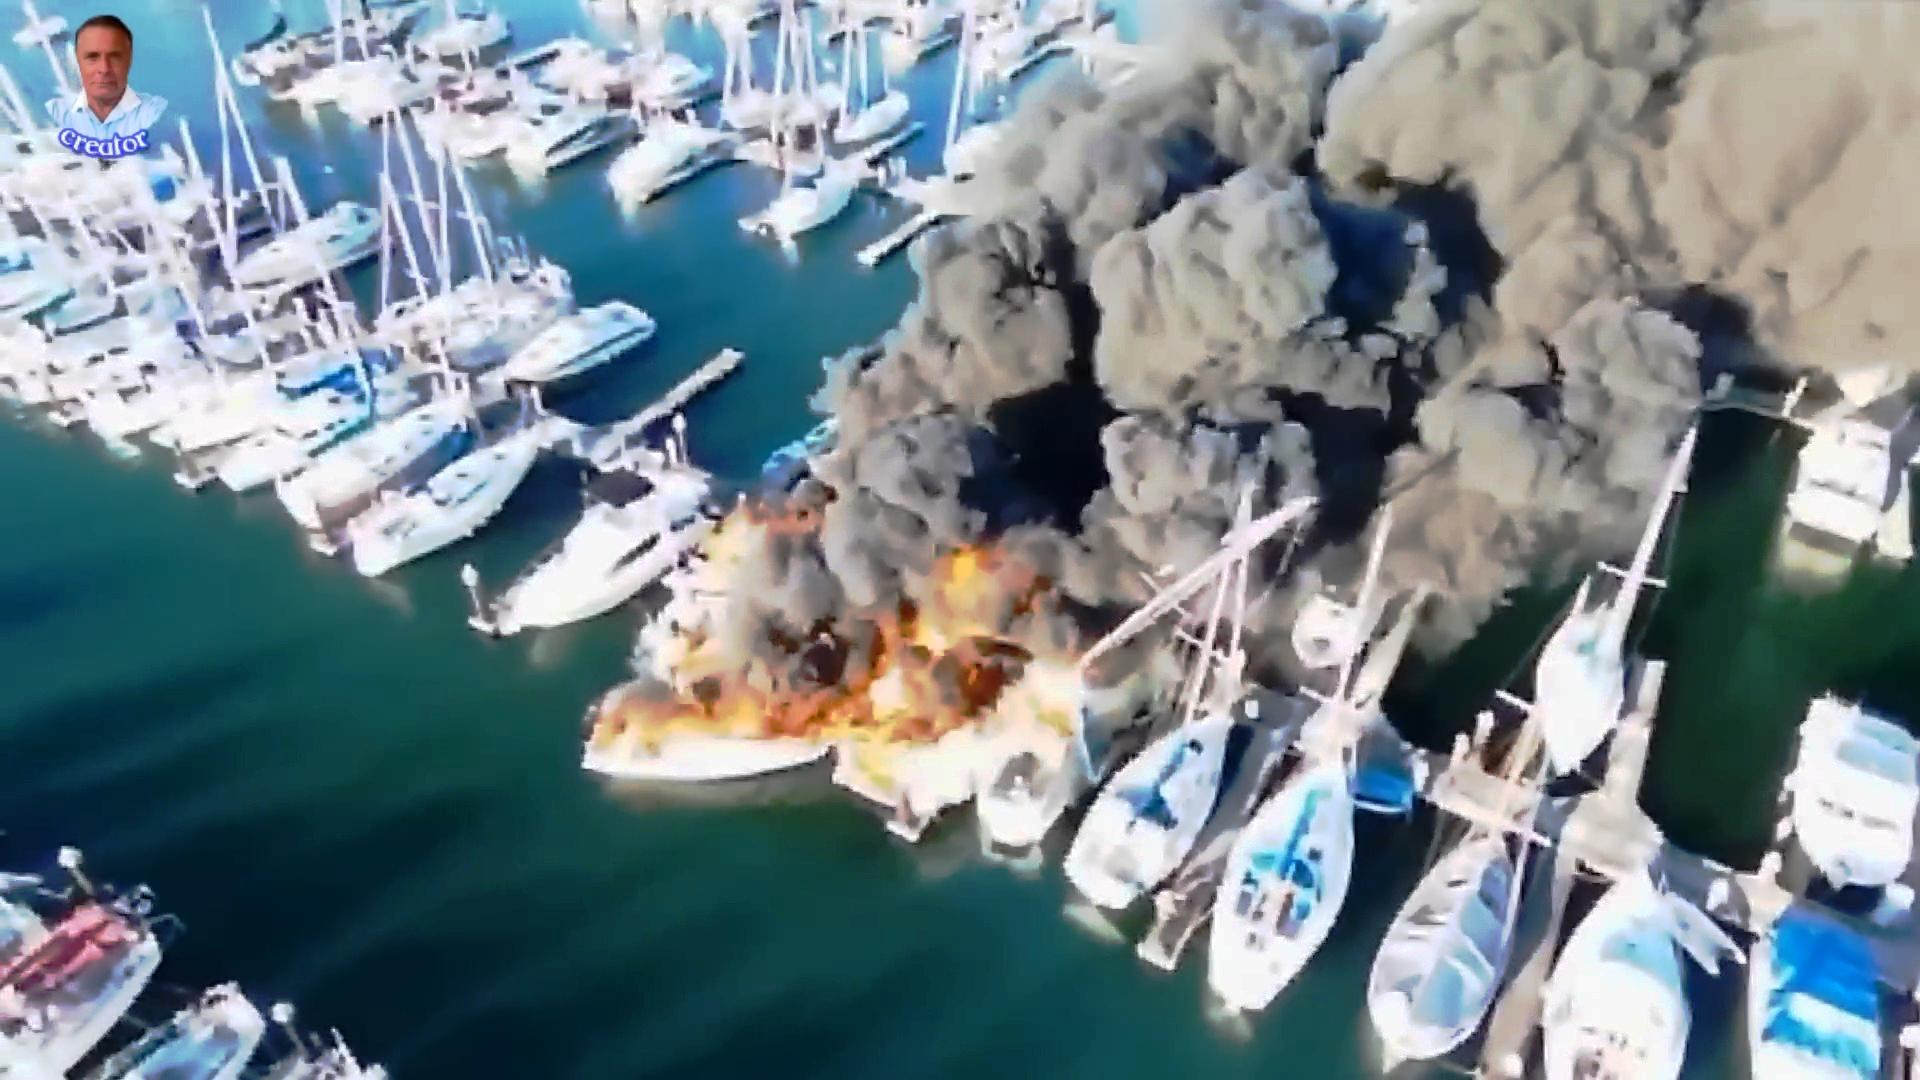smoke: (1371, 0, 1920, 368), (1026, 0, 1416, 375), (1365, 223, 1646, 580), (1065, 348, 1371, 599), (853, 211, 1067, 436), (815, 443, 1052, 629), (716, 538, 823, 676)
